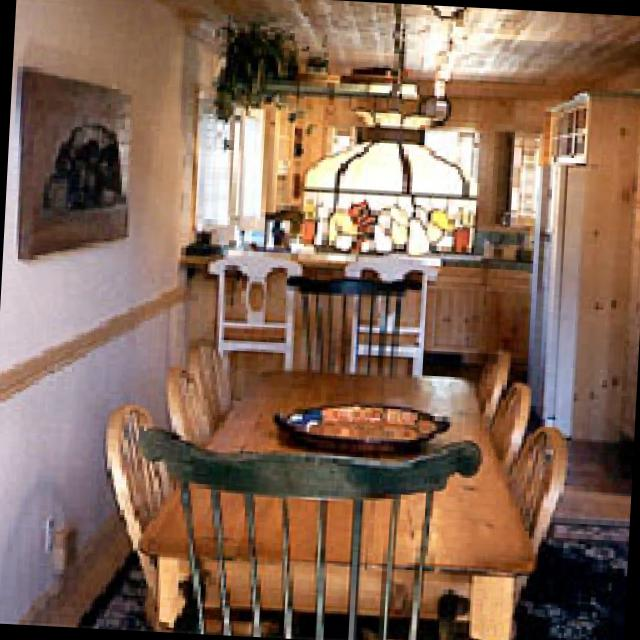2001: (326, 123, 478, 210), (240, 111, 273, 218)
bowl -X: (279, 399, 453, 453)
cabinets: (533, 87, 640, 446), (183, 263, 533, 358)
ceiling beam: (169, 0, 640, 85)
ceiling lamps: (311, 104, 476, 236)
chair: (143, 431, 483, 638), (289, 273, 412, 372), (210, 248, 303, 371), (111, 402, 169, 572), (510, 420, 572, 544), (185, 332, 241, 420), (169, 365, 219, 444), (492, 378, 534, 468), (480, 345, 516, 416)
clock crop: (424, 88, 459, 122)
painting crop: (20, 64, 134, 260)
plant -x: (217, 17, 305, 110)
table -X: (141, 365, 535, 640)
wall outlets: (47, 507, 60, 554)
